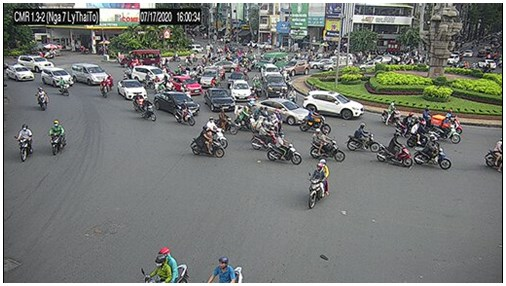xe_hoi: (304, 90, 365, 120), (257, 97, 311, 123), (155, 93, 200, 116), (70, 62, 109, 86), (204, 88, 234, 111), (172, 75, 202, 95), (132, 66, 169, 82), (118, 80, 147, 99), (263, 74, 288, 96), (18, 56, 54, 71), (42, 68, 72, 86), (6, 65, 33, 82), (231, 79, 249, 102), (319, 59, 352, 71), (281, 60, 307, 74), (207, 61, 237, 72), (201, 68, 218, 87), (309, 58, 331, 69), (228, 71, 245, 85), (359, 61, 381, 69)
xe_khach: (120, 50, 162, 66), (257, 52, 288, 69)
xe_may: (141, 247, 189, 282), (310, 128, 344, 167), (413, 135, 450, 170), (377, 132, 412, 167), (306, 158, 330, 209), (265, 133, 302, 165), (192, 125, 225, 159), (407, 120, 441, 150), (206, 257, 243, 283), (251, 123, 283, 151), (348, 123, 380, 151), (299, 107, 331, 134), (213, 109, 239, 136), (434, 109, 462, 134), (207, 118, 229, 149), (252, 107, 281, 129), (485, 137, 503, 172), (232, 106, 257, 131), (16, 125, 32, 163), (399, 110, 421, 137), (51, 120, 66, 158), (176, 100, 196, 126), (382, 102, 400, 125), (142, 97, 156, 121), (37, 87, 48, 110), (132, 92, 144, 112), (59, 77, 69, 95), (100, 79, 110, 97), (143, 71, 153, 89), (153, 76, 161, 94), (108, 73, 113, 90)
